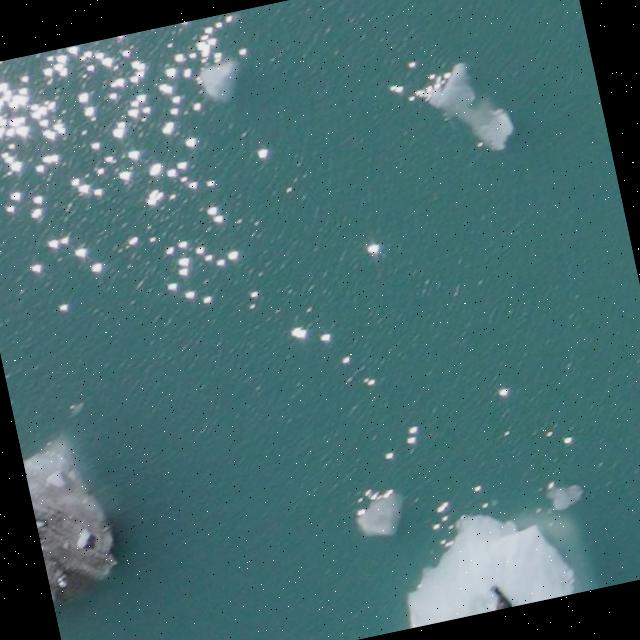seal: (486, 584, 511, 610)
